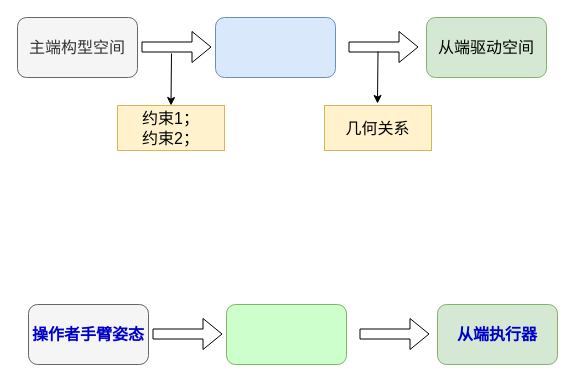
The diagram is 575 pixels wide and 382 high, and some of its shapes have lost their labels. Each missing label, with the centre of its shape:
"主端操纵器" goes at point (286, 334).
"从端构型空间" goes at point (275, 47).
